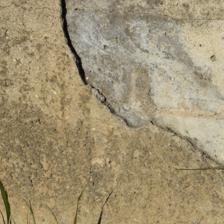Crack: (27, 2, 195, 169)
